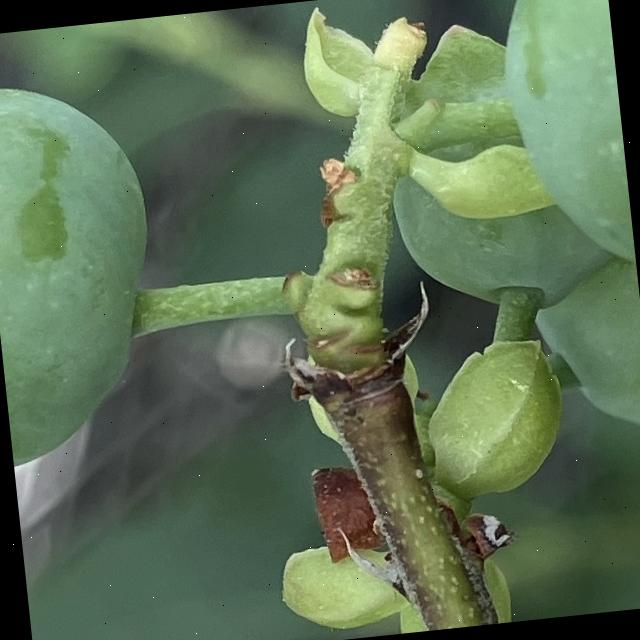Blueberries: (0, 70, 176, 475)
